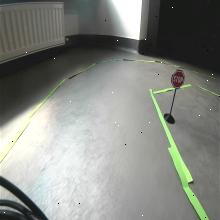stop: (171, 69, 185, 89)
